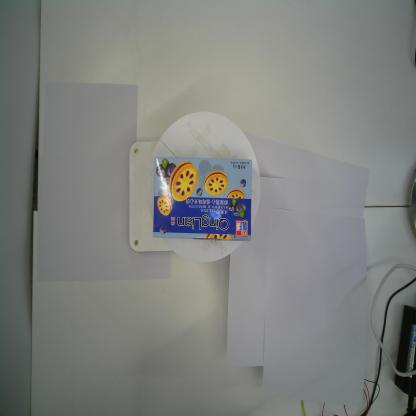Dessert: (152, 156, 253, 241)
